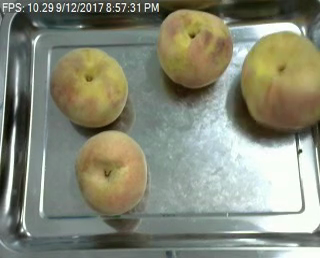Peach: (239, 31, 319, 130), (50, 45, 128, 127), (76, 129, 148, 216), (157, 8, 232, 88)
